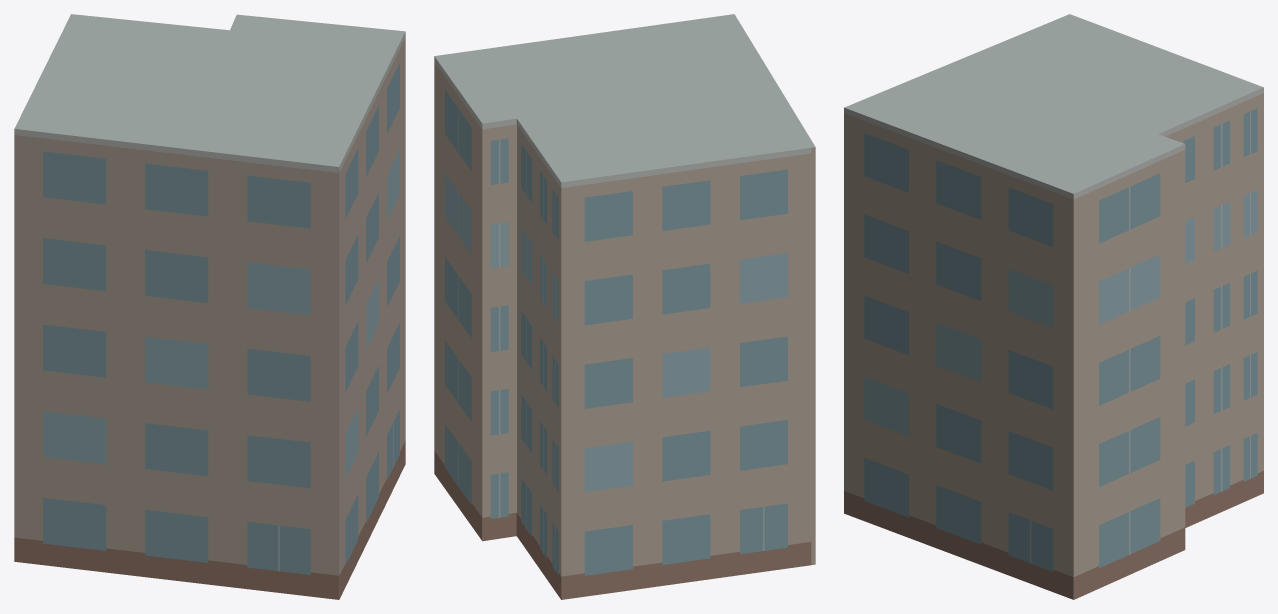
File: survey-upis-32473966.glb
The picture shows the model from 3 angles, left to right: view 1: azimuth 30°, elevation 25°; view 2: azimuth 150°, elevation 25°; view 3: azimuth 270°, elevation 25°; orthographic projection. The views are drawn at different scales.
Parts seen in each view (by area): view 1: survey-upis-32473966.tmp; view 2: survey-upis-32473966.tmp; view 3: survey-upis-32473966.tmp.
Part boxes in pixels (bbox=[...]): survey-upis-32473966.tmp: bbox=[14, 14, 405, 599]; survey-upis-32473966.tmp: bbox=[434, 14, 815, 599]; survey-upis-32473966.tmp: bbox=[844, 14, 1263, 599].
Size of the model in its own units: 16.81 by 17.67 by 16.57.
